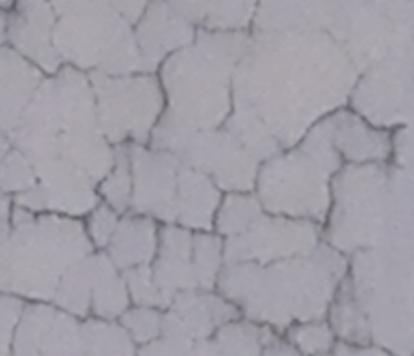fissura: (5, 4, 414, 353)
